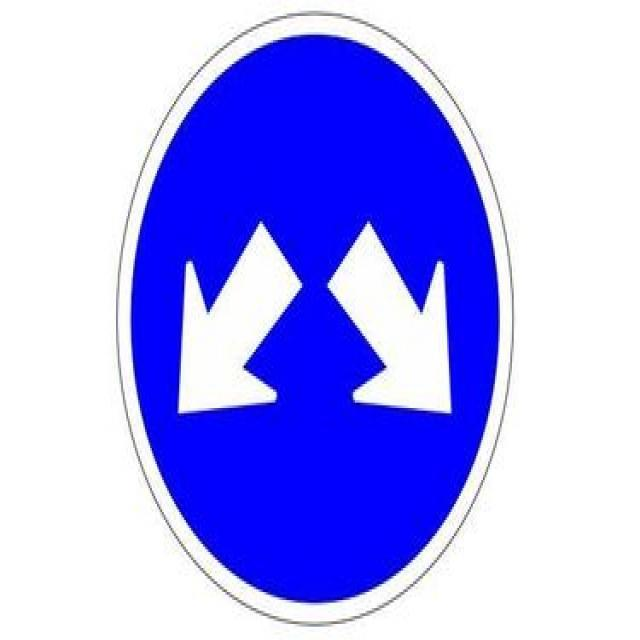Pilih Salah Satu Jalur: (116, 12, 513, 624)
